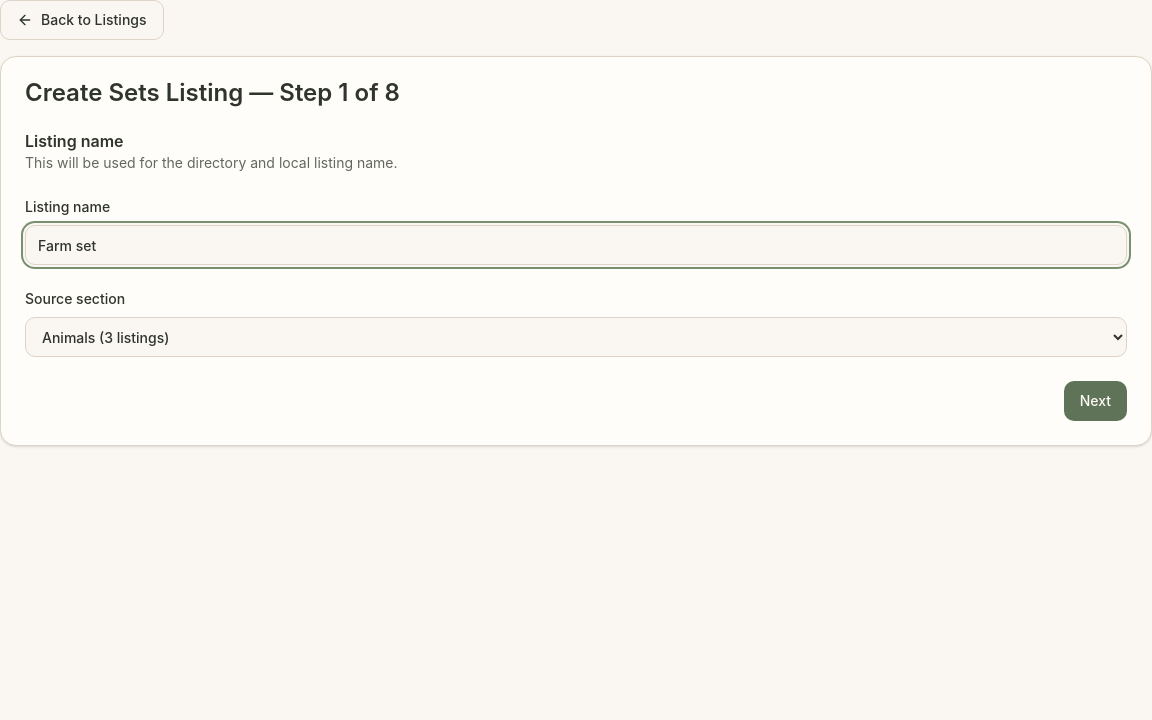
Test case: MultiListingWizard replacement confirmation › does not proceed past validation until the user explicitly confirms replacement
Click the button "Next". click: (1095, 401)
box: [1064, 381, 1127, 421]
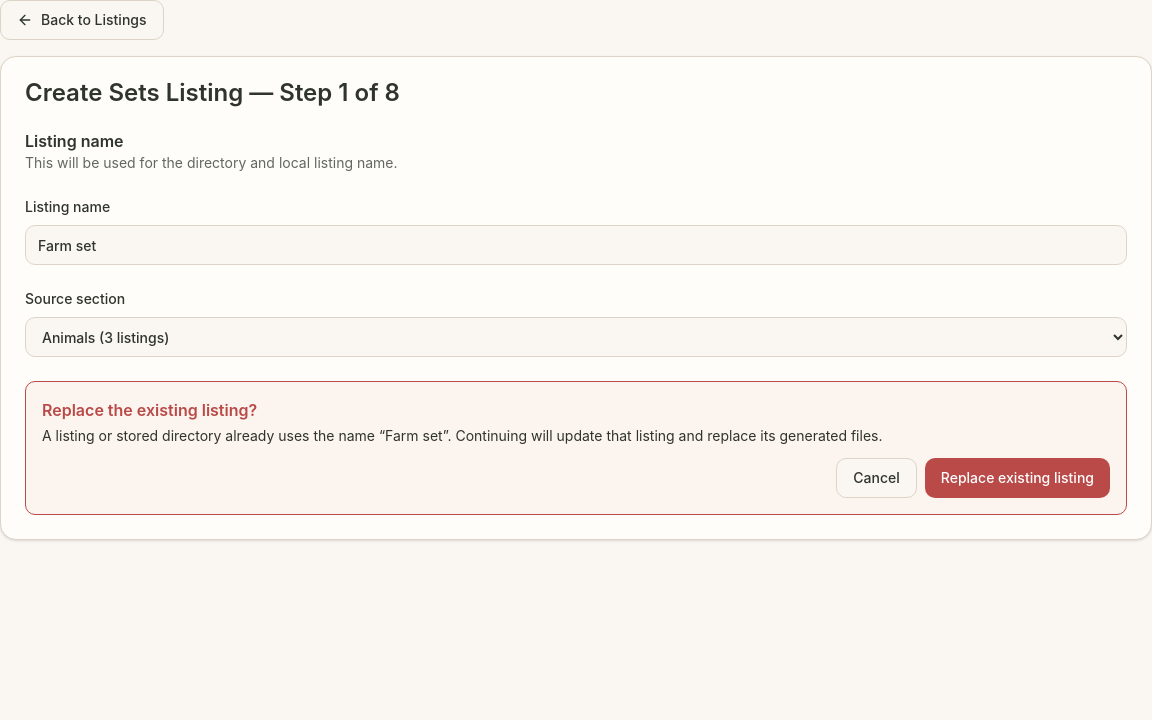
Check: the heading "Select source listings" is not shown
Check: the heading "Replace the existing listing?" is shown, box [42, 400, 257, 420]
Check: the message shows "replace its generated files", box [443, 427, 882, 444]
Click the button "Replace existing listing". click: (1017, 478)
box: [925, 458, 1110, 498]
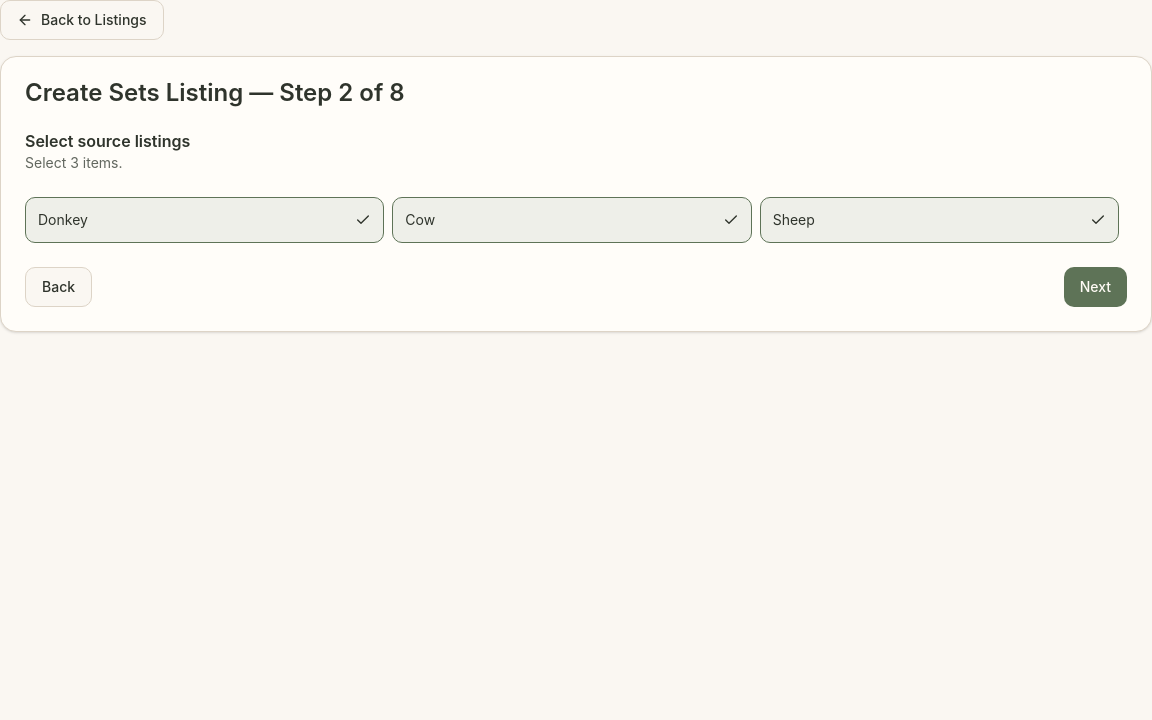
Check: the heading "Select source listings" is shown, box [25, 131, 190, 151]
